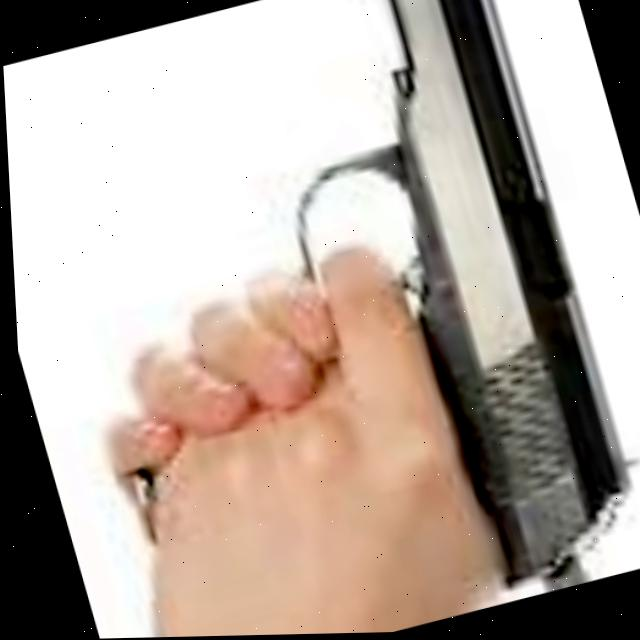pistol: (6, 0, 640, 640)
